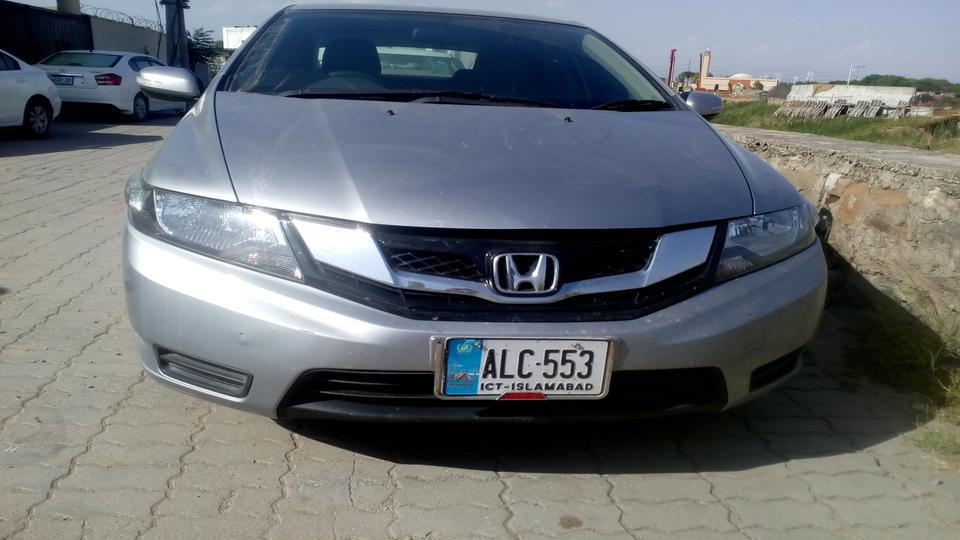NumberPlate: (441, 335, 611, 405)
